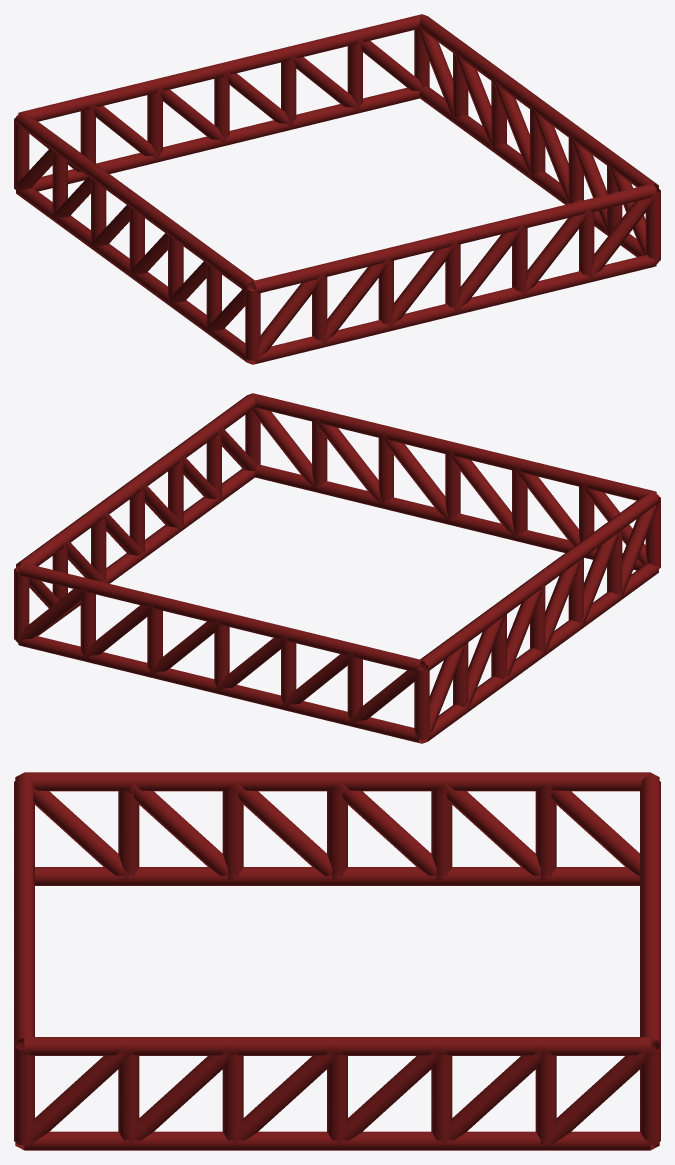
File: andamio18.DAE
3 renders of one model, top to bottom at view 1: azimuth 30°, elevation 25°; view 2: azimuth 150°, elevation 25°; view 3: azimuth 270°, elevation 25°, orthographic. The views are drawn at different scales.
Parts seen in each view (by area): view 1: andamio18; view 2: andamio18; view 3: andamio18.
Boxes of the visible parts, x1,y1,x2,y2 form: andamio18: (14,14,660,364); andamio18: (14,393,660,743); andamio18: (14,772,660,1150).
Size of the model in its own units: 18.52 by 3.6 by 18.6.
